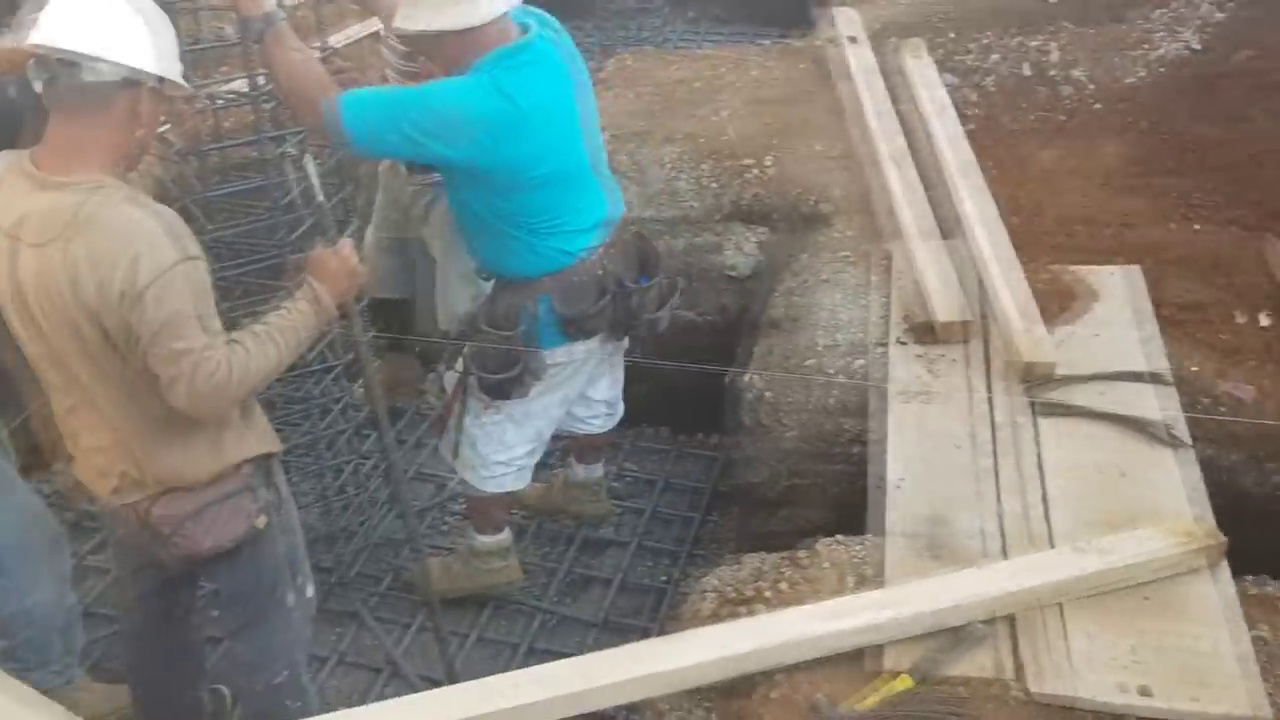helmet: (2, 2, 195, 96)
helmet-off: (370, 0, 529, 74)
helmet-on: (3, 8, 199, 185)
person: (1, 1, 370, 720), (264, 0, 629, 575)
